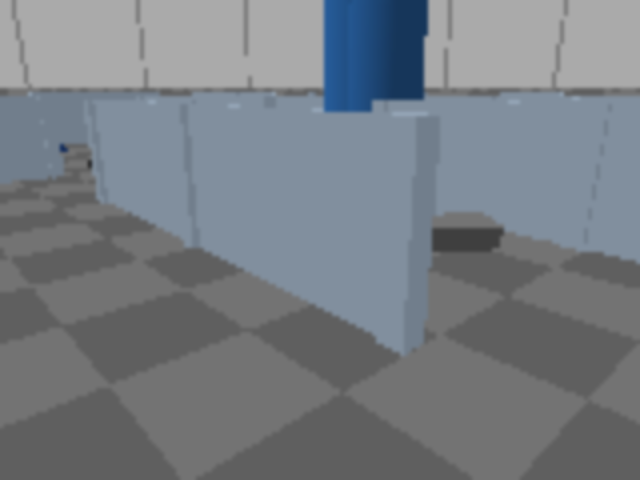obstacle: (419, 213, 503, 251)
